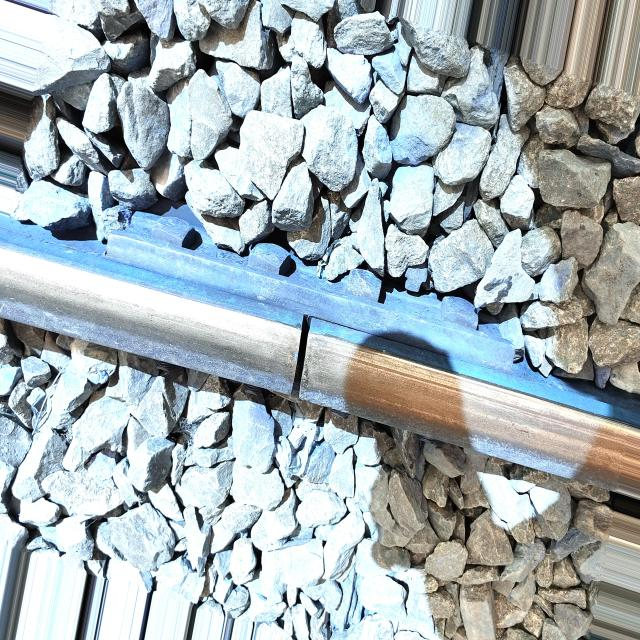crack: (277, 300, 326, 428)
